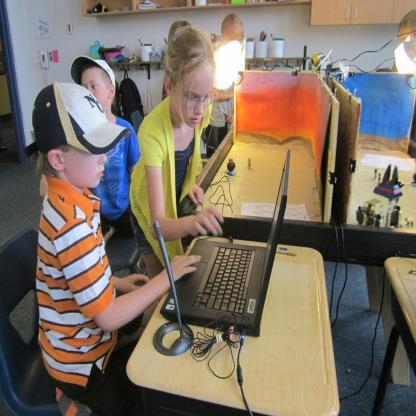board: (152, 165, 292, 354)
